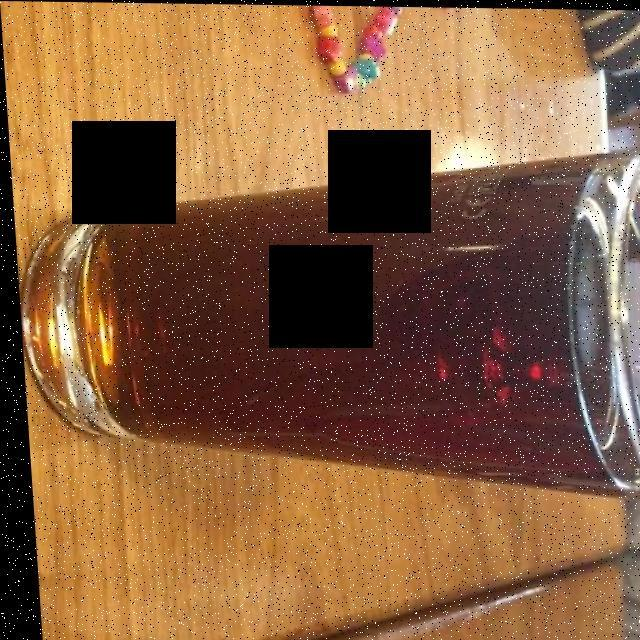ice-tea: (69, 145, 640, 486)
